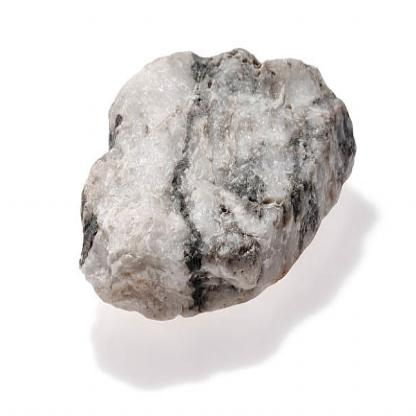Metamorphic_Marble: (62, 41, 364, 311)
